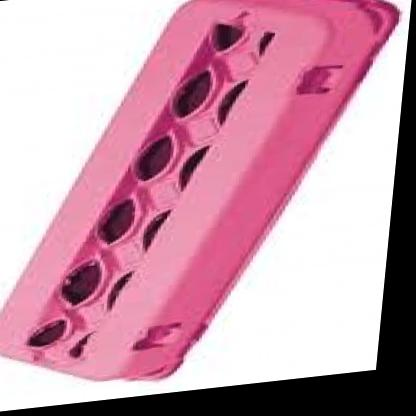Paper: (0, 0, 404, 414)
